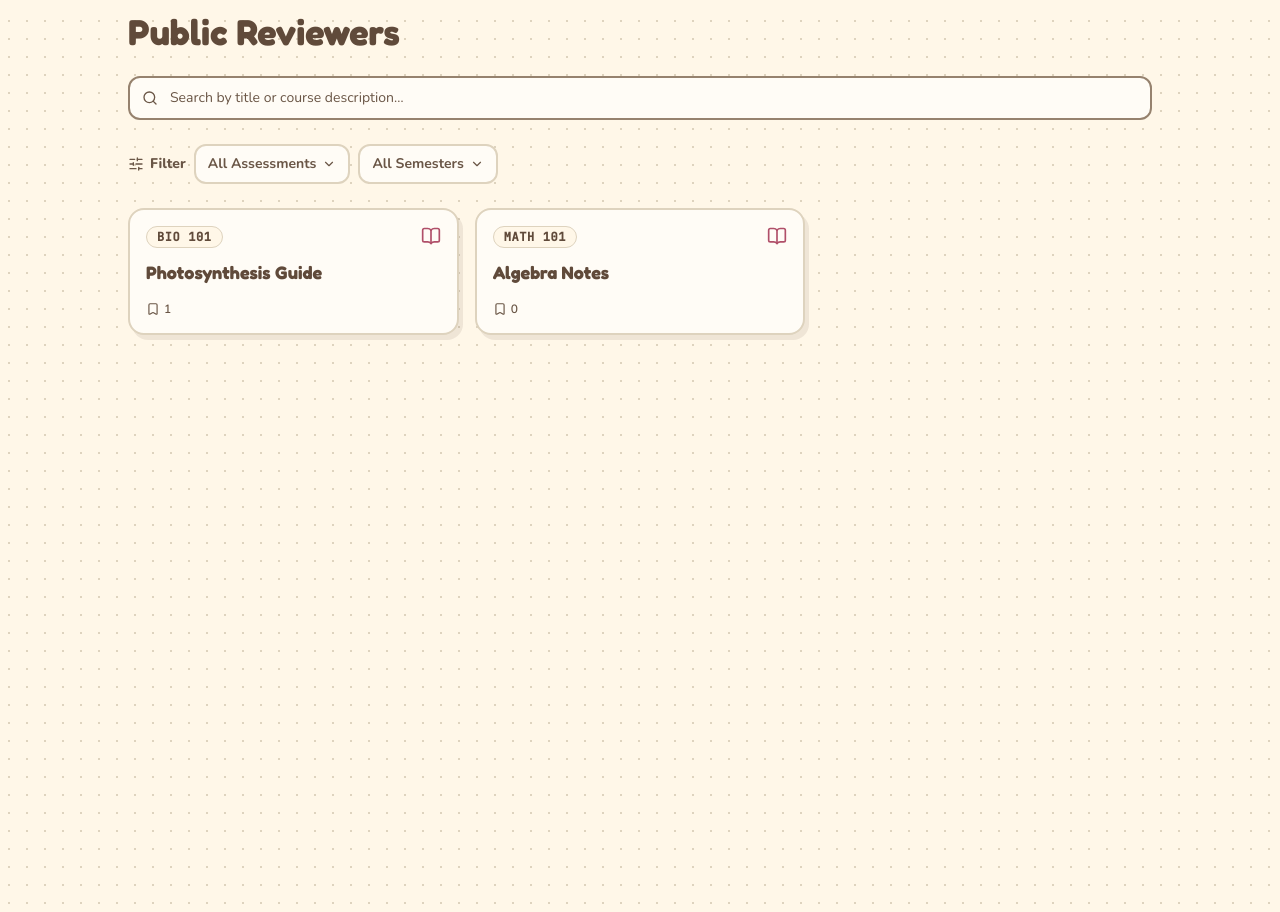
Test: ReviewerList search › clears the query with the X button
expect the heading "Photosynthesis Guide" is shown: met, box [146,261,322,283]
In the field named "Search reviewers": [640, 98] box [128,76,1152,120], type "photo"
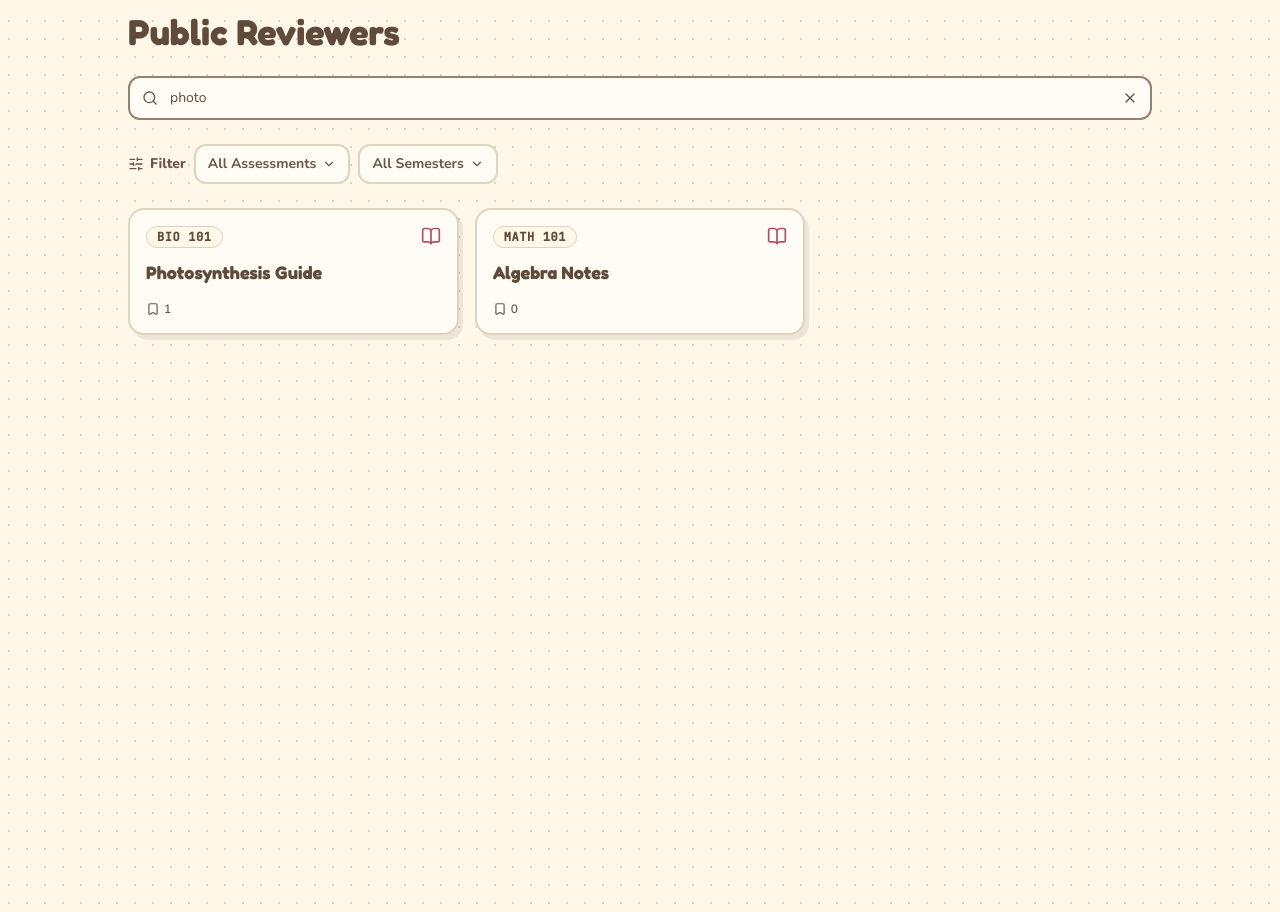
expect the button named "Clear search" is shown: met
Click the button named "Clear search": [1130, 98] box [1116,84,1144,112]
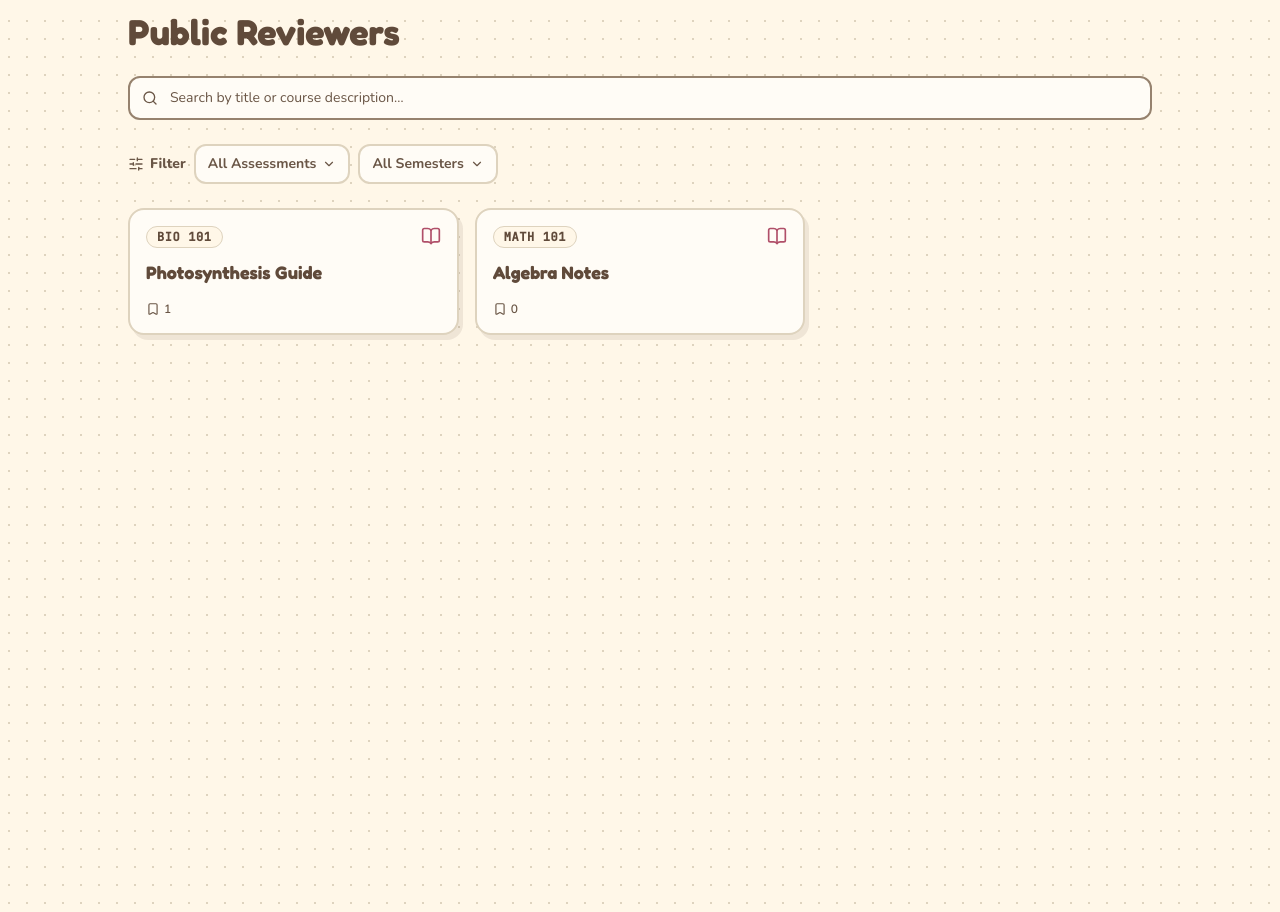
expect the field named "Search reviewers" is empty: met, box [128,76,1152,120]
